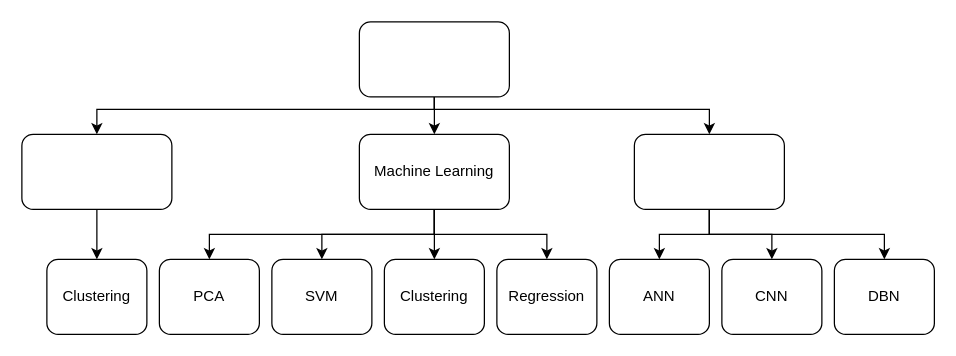
Some shapes in this 956 by 356 pixel diagram are drawn without their labels. The centre of each missing label's shape, as x and y in pixels:
Functional Data Analysis: the point at 96,171
HS detection approaches: the point at 433,59
Neural Networks: the point at 708,171
